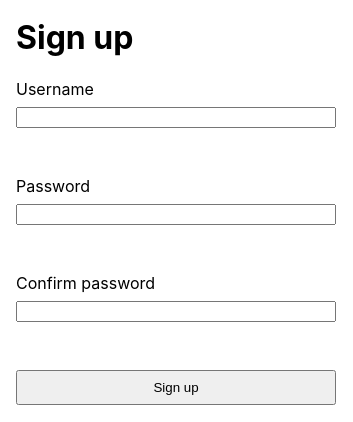
SignUpPage › should submit the form if all fields are valid
Type "12345L%" into the password field labelled "Confirm password" at (176, 311), box [16,301,336,322]
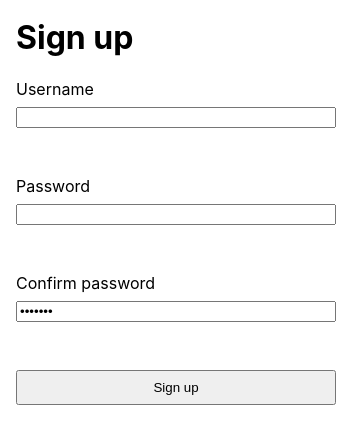
Type "12345L%" into the password field labelled "Password" at (176, 214), box [16,204,336,225]
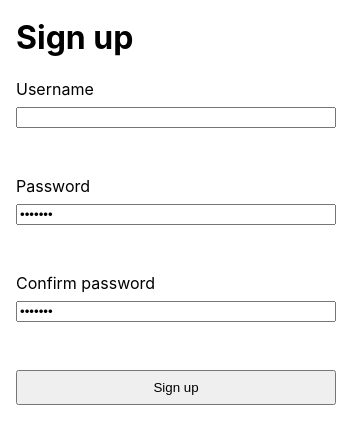
Type "test@test.com" into the field labelled "Username" at (176, 117), box [16,107,336,128]
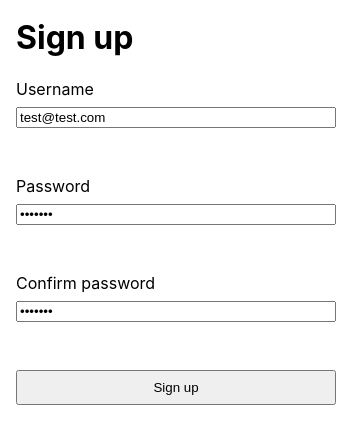
Click the button at (176, 387), box [16,370,336,405]
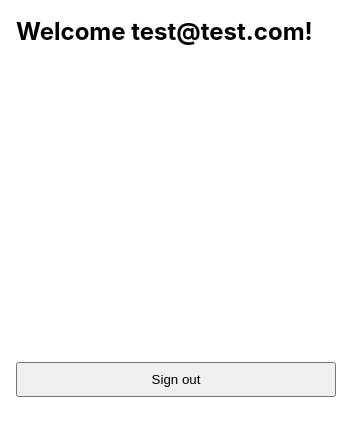
Expected: the heading "Welcome test@test.com!" is shown, [16,17,336,46]
